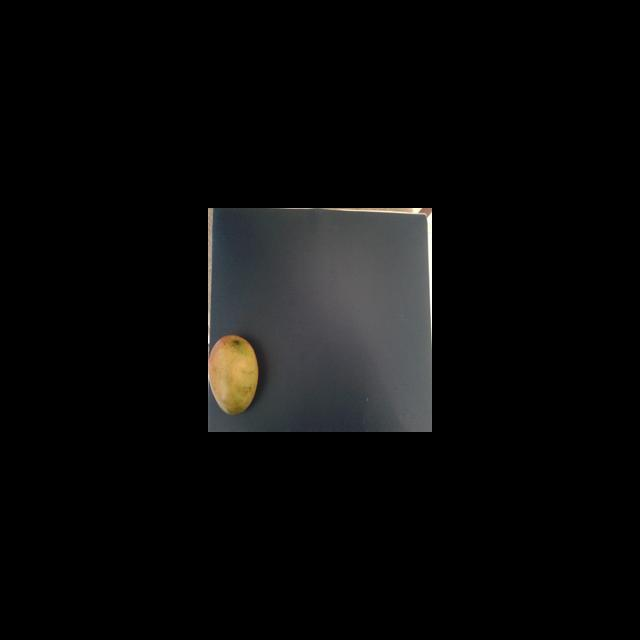Mango: (208, 334, 259, 415)
